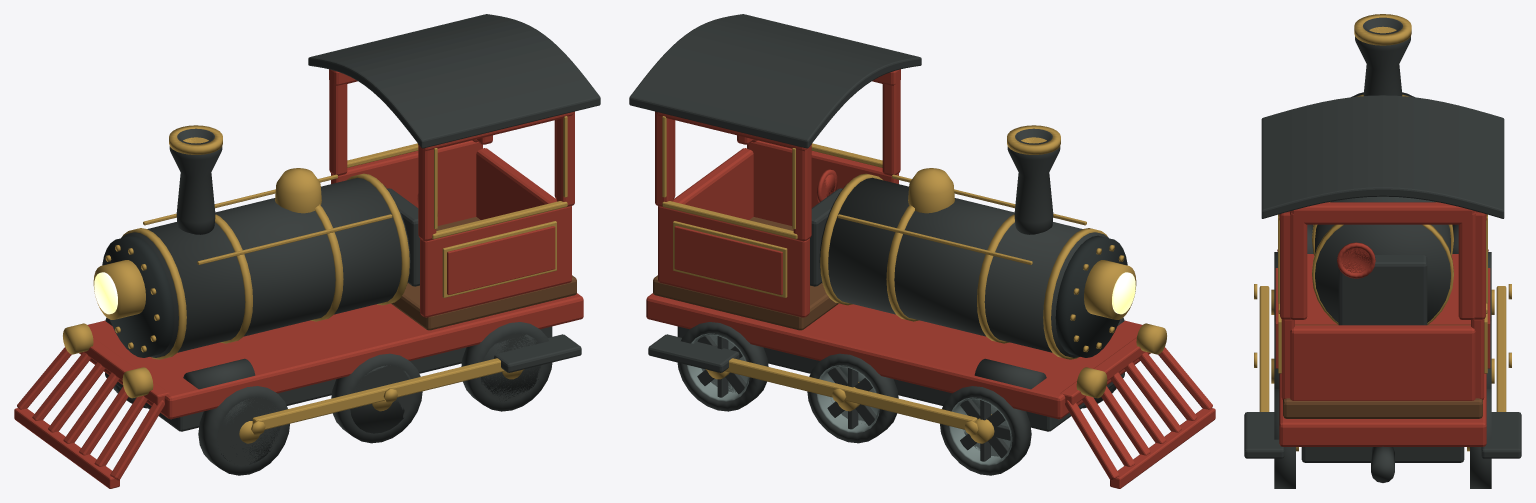
The model's file is 01_steam_locomotive.glb.
3 renders of one model, left to right at view 1: azimuth 30°, elevation 25°; view 2: azimuth 150°, elevation 25°; view 3: azimuth 270°, elevation 25°, orthographic. The views are drawn at different scales.
Parts seen in each view (by area): view 1: Boiler, Curved cab roof, Red main running board, Cab lower panel, Wheel tyre, Cab lower panel.001, Cab panel red inset, Wheel tyre.001, Boiler front, Wheel tyre.002, Drive rod, Smokestack (+32 smaller); view 2: Boiler, Curved cab roof, Red main running board, Cab lower panel.001, Cab panel red inset.001, Cab lower panel, Boiler front, Drive rod.001, Smokestack, Cab rear lower panel, Cab floor, Wheel tyre.003 (+35 smaller); view 3: Curved cab roof, Cab rear lower panel, Red main running board, Boiler, Control console, Cab floor, Rear top rail, Smokestack, Steel chassis, Rear corner pillar, Rear corner pillar.001, Cab step (+15 smaller).
Part boxes in pixels (left/top/right/bottom): Boiler: left=121, top=177, right=410, bottom=357; Curved cab roof: left=308, top=14, right=600, bottom=148; Red main running board: left=79, top=293, right=583, bottom=419; Cab lower panel: left=420, top=206, right=571, bottom=317; Wheel tyre: left=198, top=386, right=289, bottom=475; Cab lower panel.001: left=331, top=140, right=482, bottom=225; Cab panel red inset: left=447, top=226, right=555, bottom=294; Wheel tyre.001: left=331, top=353, right=422, bottom=443; Boiler front: left=102, top=235, right=174, bottom=357; Wheel tyre.002: left=461, top=322, right=552, bottom=411; Drive rod: left=252, top=358, right=504, bottom=429; Smokestack: left=169, top=128, right=222, bottom=234; Boiler: left=819, top=177, right=1108, bottom=357; Curved cab roof: left=629, top=14, right=921, bottom=148; Red main running board: left=646, top=293, right=1150, bottom=419; Cab lower panel.001: left=658, top=206, right=809, bottom=317; Cab panel red inset.001: left=674, top=226, right=782, bottom=294; Cab lower panel: left=747, top=140, right=898, bottom=225; Boiler front: left=1055, top=235, right=1127, bottom=357; Drive rod.001: left=725, top=358, right=977, bottom=429; Smokestack: left=1007, top=128, right=1060, bottom=234; Cab rear lower panel: left=673, top=148, right=753, bottom=219; Cab floor: left=653, top=217, right=838, bottom=330; Wheel tyre.003: left=940, top=386, right=1031, bottom=475; Curved cab roof: left=1261, top=95, right=1504, bottom=218; Cab rear lower panel: left=1290, top=325, right=1475, bottom=400; Red main running board: left=1279, top=254, right=1486, bottom=446; Boiler: left=1315, top=196, right=1450, bottom=322; Control console: left=1338, top=255, right=1427, bottom=325; Cab floor: left=1283, top=324, right=1482, bottom=418; Rear top rail: left=1290, top=202, right=1475, bottom=224; Smokestack: left=1355, top=17, right=1410, bottom=95; Steel chassis: left=1301, top=447, right=1464, bottom=462; Rear corner pillar: left=1290, top=211, right=1307, bottom=319; Rear corner pillar.001: left=1458, top=211, right=1475, bottom=319; Cab step: left=1244, top=412, right=1284, bottom=458.
Bounding box in the file's own units: 4.18 × 2.53 × 1.87.
